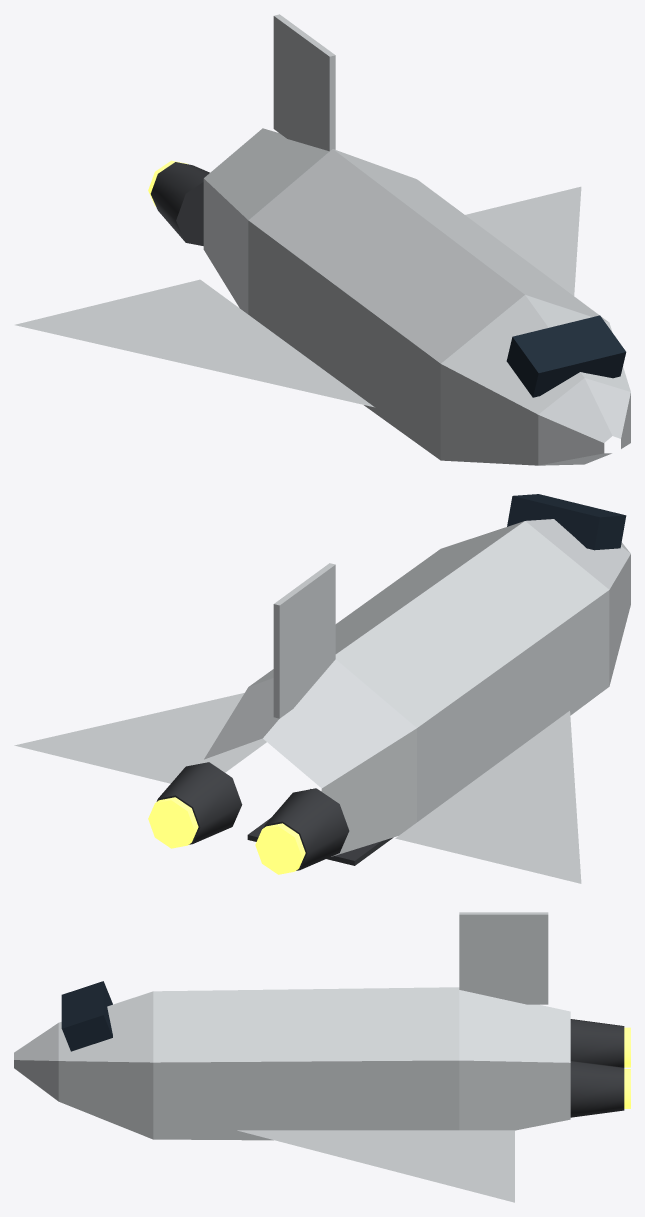
Rendered from space_ship_shuttle_mk2.glb.
3 views of the same model, one above another, from view 1: azimuth 30°, elevation 25°; view 2: azimuth 150°, elevation 25°; view 3: azimuth 270°, elevation 25° (orthographic). The views are drawn at different scales.
Visible parts, largest first — view 1: body, engine_1; view 2: body, engine_1, engine_0, ramp; view 3: body, engine_0, engine_1.
Part boxes in pixels (x1,y1,x2,y2): body: (15,14,630,465); engine_1: (148,160,209,245); body: (14,494,630,883); engine_1: (255,788,349,874); engine_0: (148,762,242,848); ramp: (247,789,393,865); body: (14,912,570,1202); engine_0: (570,1060,630,1117); engine_1: (570,1019,630,1067).
Size of what is drawn, in the model's own units: 9.44 by 4.23 by 11.17.
